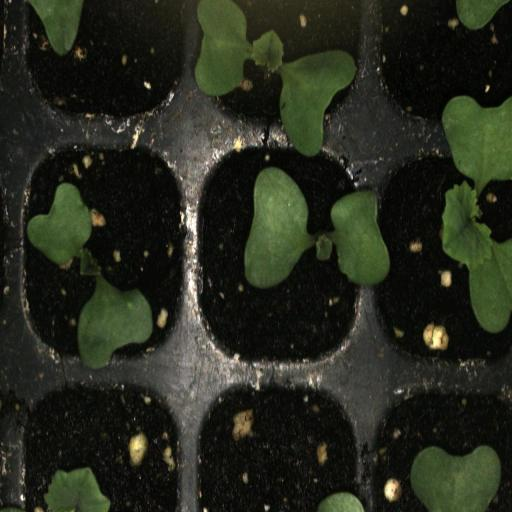seedling: (189, 145, 369, 384), (15, 145, 192, 369), (368, 143, 512, 382), (192, 0, 369, 146)
